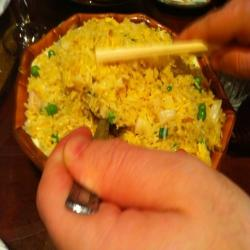rice: (22, 15, 235, 188)
